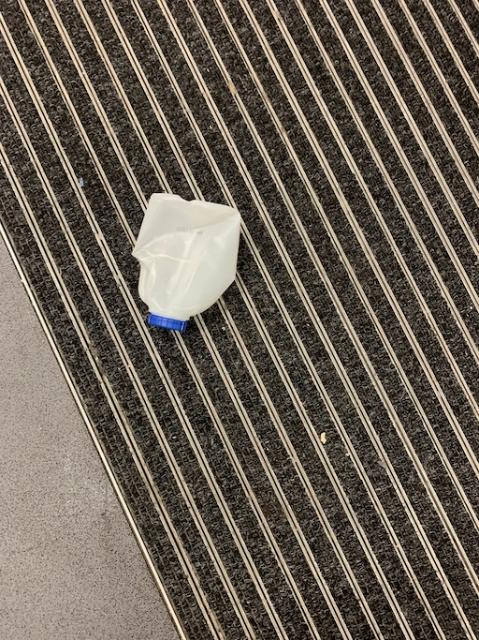plastic: (131, 192, 240, 329)
